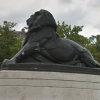Statue: (8, 5, 92, 84)
